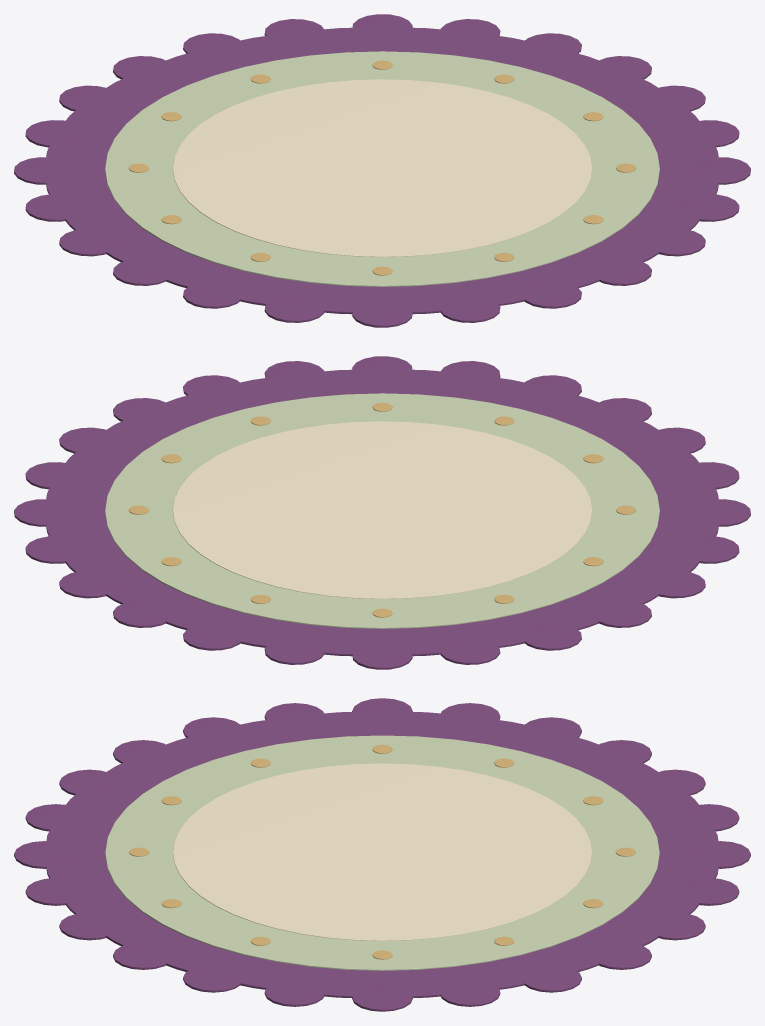
Rendered from Moon_Rug.fbx.
3 views of the same model, one above another, from view 1: azimuth 30°, elevation 25°; view 2: azimuth 150°, elevation 25°; view 3: azimuth 270°, elevation 25° (orthographic).
Visible parts, largest first — view 1: Moon_Rug_Mesh; view 2: Moon_Rug_Mesh; view 3: Moon_Rug_Mesh.
Boxes of the visible parts, <box> form: Moon_Rug_Mesh: <box>14,14,750,327</box>; Moon_Rug_Mesh: <box>14,356,750,669</box>; Moon_Rug_Mesh: <box>14,698,750,1011</box>.
Size of the model in its own units: 2.18 by 0.0145 by 2.18.
